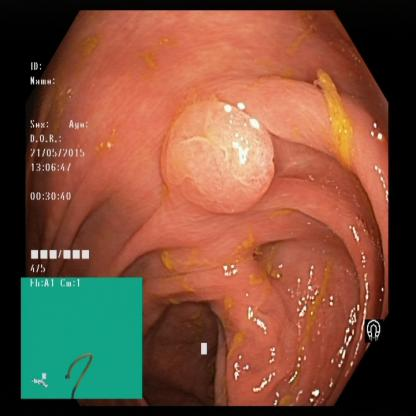Labels: (28, 58, 100, 276), (21, 278, 146, 401), (364, 311, 388, 350)
Polyps: (157, 101, 277, 221)
